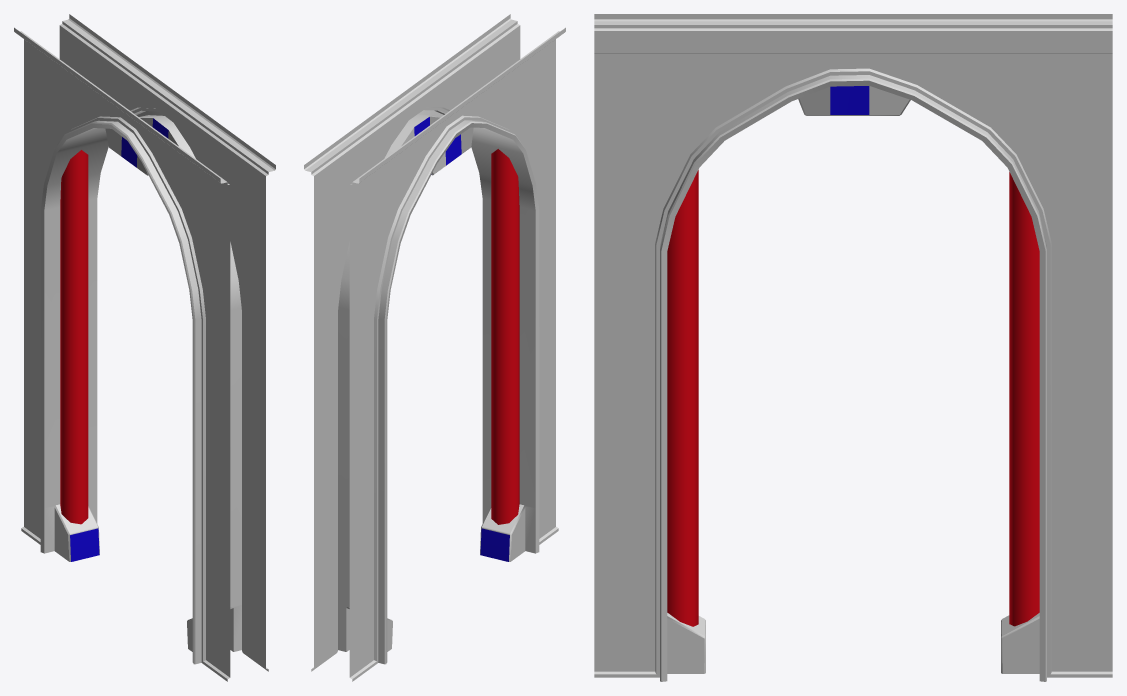
File: arc standalone.fbx
3 renders of one model, left to right at view 1: azimuth 30°, elevation 25°; view 2: azimuth 150°, elevation 25°; view 3: azimuth 270°, elevation 25°, orthographic. The views are drawn at different scales.
Visible parts, largest first — view 1: group4_arch_basic5; view 2: group4_arch_basic5; view 3: group4_arch_basic5.
Boxes of the visible parts, x1=… form: group4_arch_basic5: x1=14, y1=14, x2=275, y2=681; group4_arch_basic5: x1=304, y1=14, x2=565, y2=681; group4_arch_basic5: x1=594, y1=14, x2=1112, y2=681.
Size of the model in its own units: 92.87 by 810 by 600.
